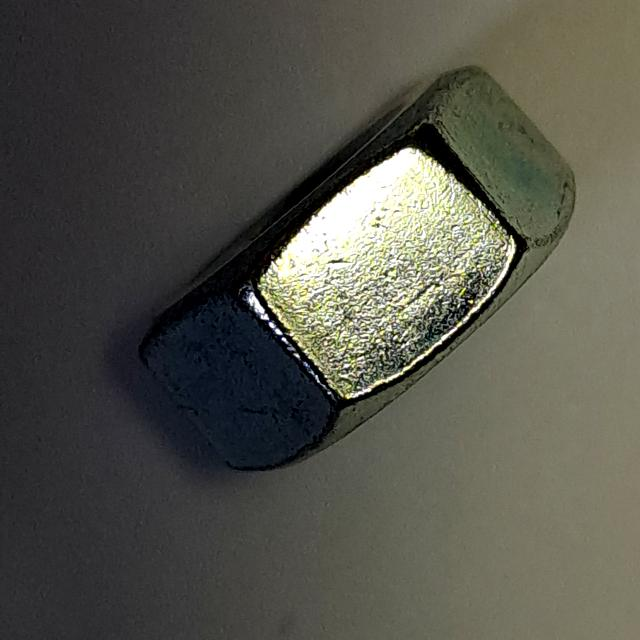Side_Excellent: (117, 53, 586, 484)
